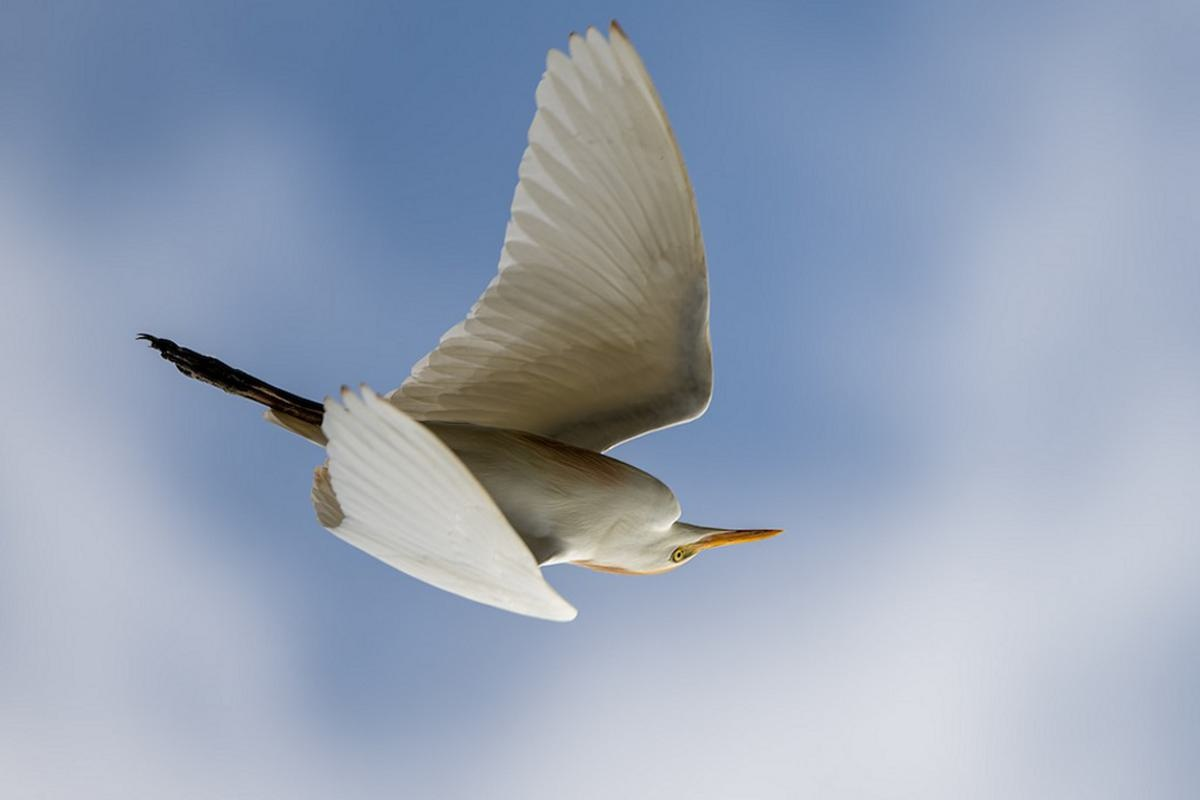egret: (197, 67, 801, 636)
